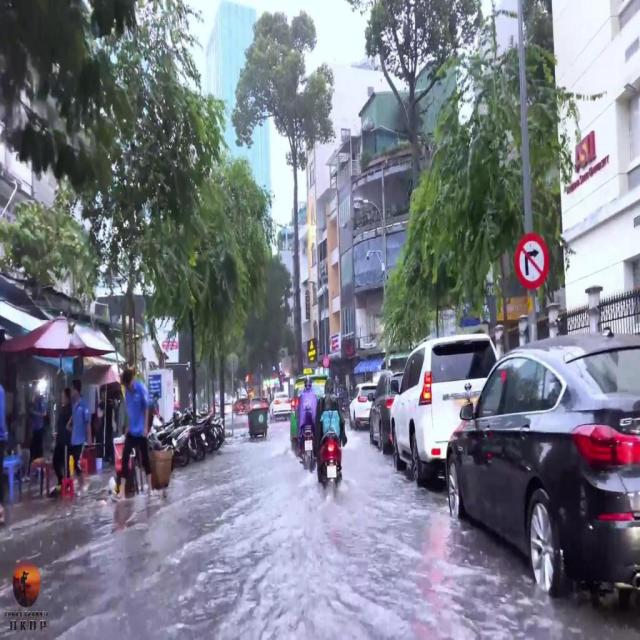cam_dung_xe_va_do_xe: (323, 357, 329, 368)
cam_re_phai: (514, 232, 548, 290)
duong_mot_chieu: (324, 369, 329, 376)
